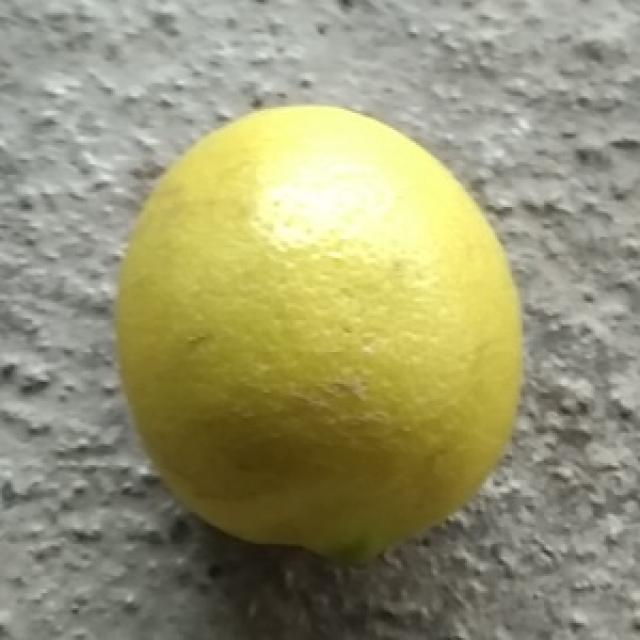Ripe: (110, 103, 528, 571)
